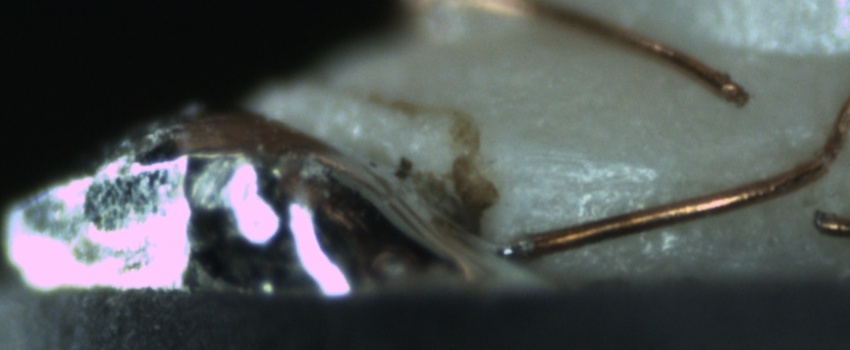DL: (524, 137, 670, 201)
